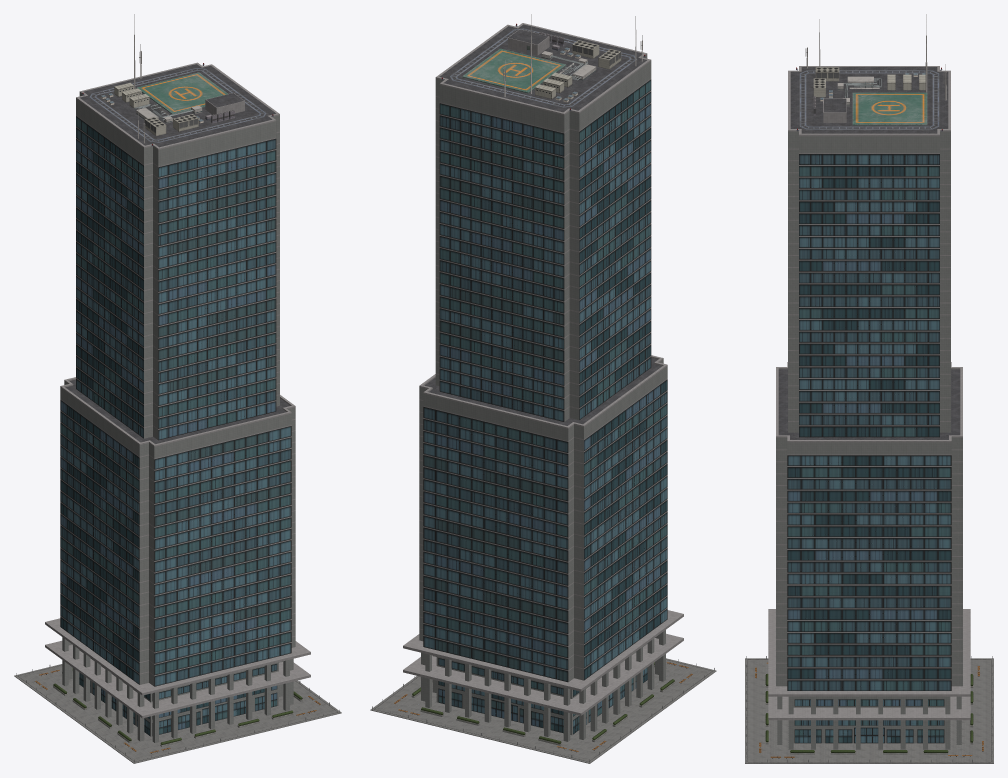
The model's file is jctlowBld50_Ea.fbx.
3 views of the same model, side by side, from view 1: azimuth 30°, elevation 25°; view 2: azimuth 150°, elevation 25°; view 3: azimuth 270°, elevation 25° (orthographic). The views are drawn at different scales.
Visible parts, largest first — view 1: jctlowBld50_Ea; view 2: jctlowBld50_Ea; view 3: jctlowBld50_Ea.
Boxes of the visible parts, x1,y1,x2,y2 form: jctlowBld50_Ea: (14, 14, 341, 763); jctlowBld50_Ea: (370, 14, 716, 763); jctlowBld50_Ea: (745, 14, 993, 763).
Bounding box in the file's own units: 6000 × 18331 × 6000.
Materials: 10 (10 with a texture image).
